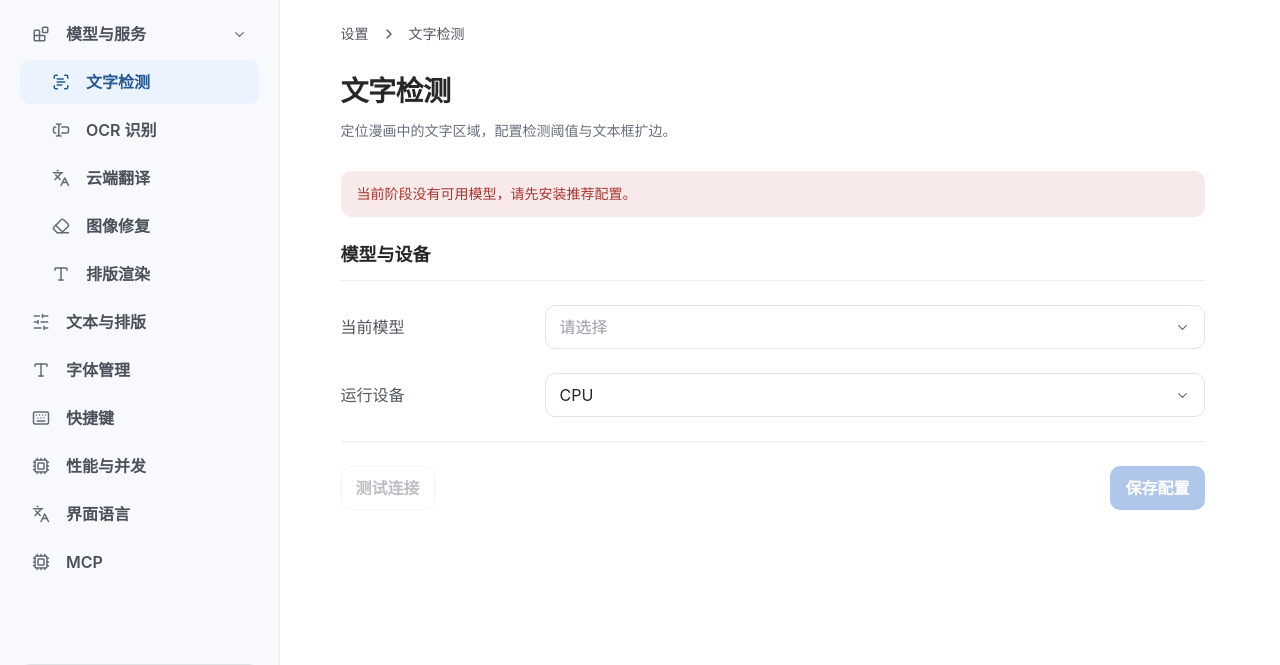
keyless translation settings › restores the saved LLM connection when switching back instead of replacing it
What coordinates should you click on to do the following:
click the button with aria-label "编辑云端翻译配置"
I would click on:
 (140, 178)
Its box is [20,156,259,200].
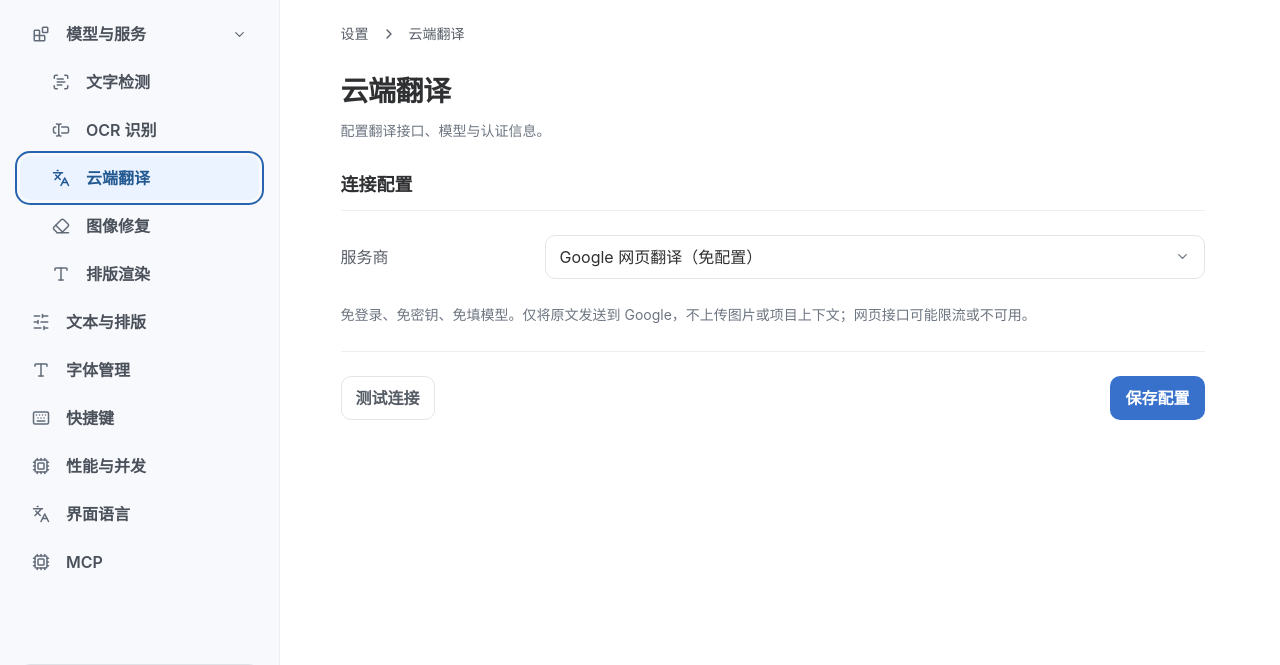
What coordinates should you click on to do the following:
click the button with aria-label "当前模型"
I would click on:
 (661, 257)
Its box is [544,235,1204,279].
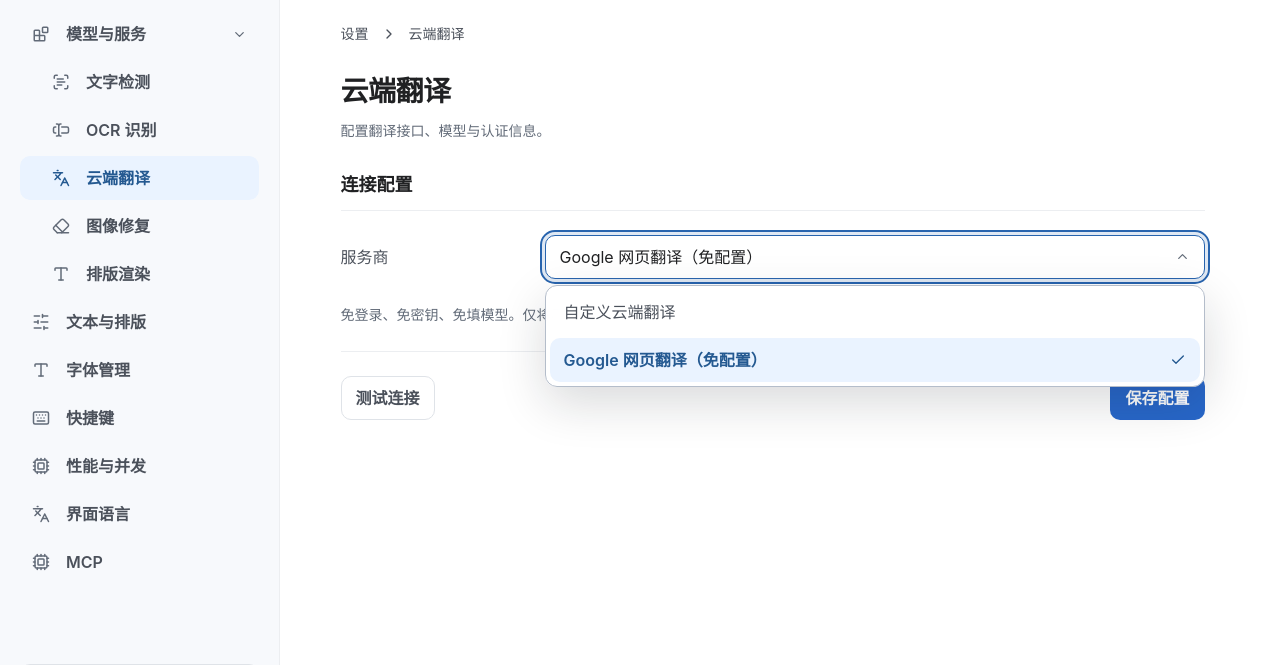
What coordinates should you click on to do the following:
click the option "自定义云端翻译"
I would click on:
 (620, 312)
Its box is [550,290,1200,334].
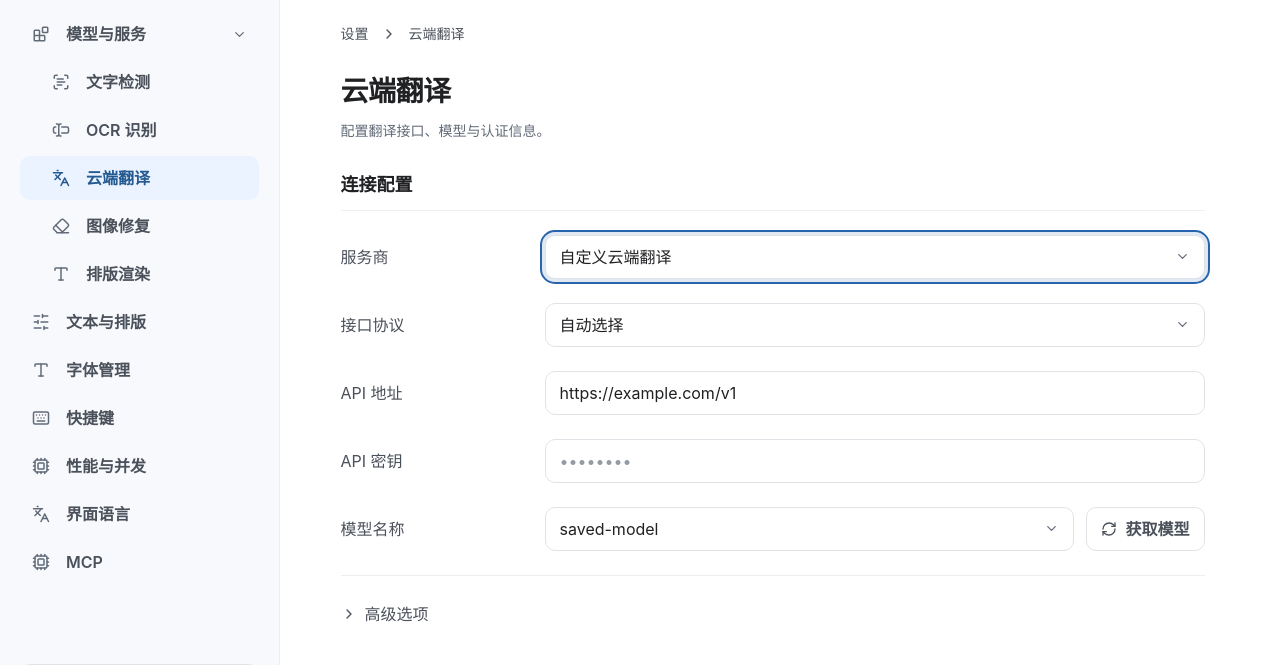
Check: the field named "API Base URL" holds "https://example.com/v1", box [544,371,1204,415]
Check: the button with aria-label "选择翻译模型" reads "saved-model", box [544,507,1074,551]
